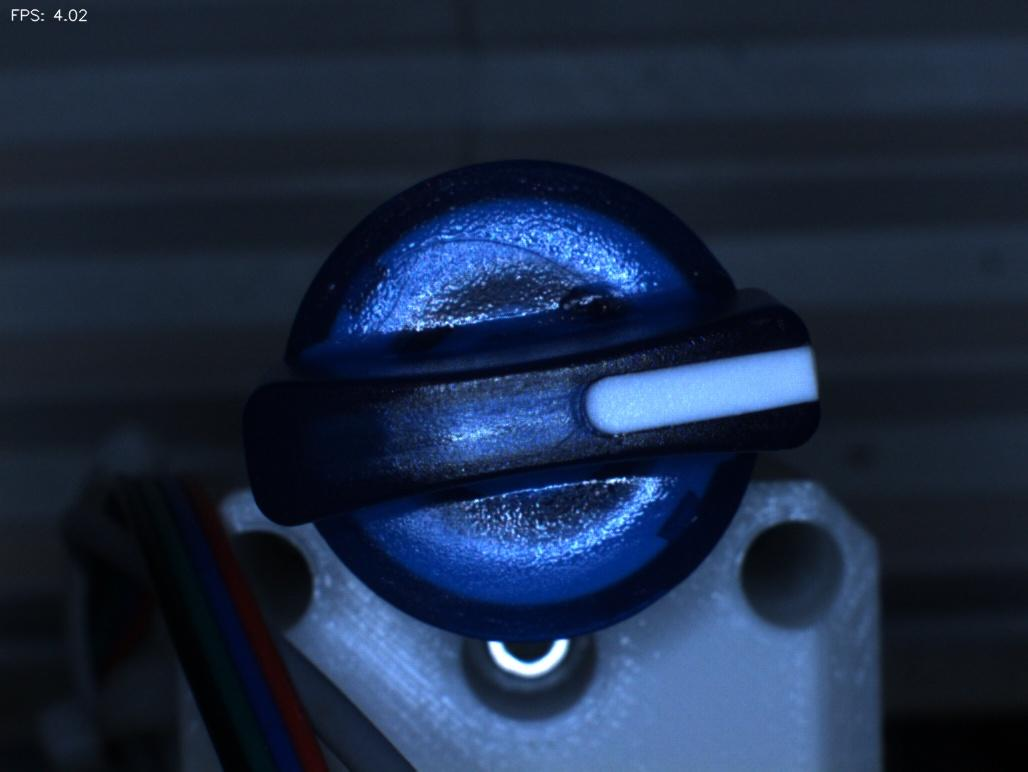Choc: (540, 253, 649, 334)
